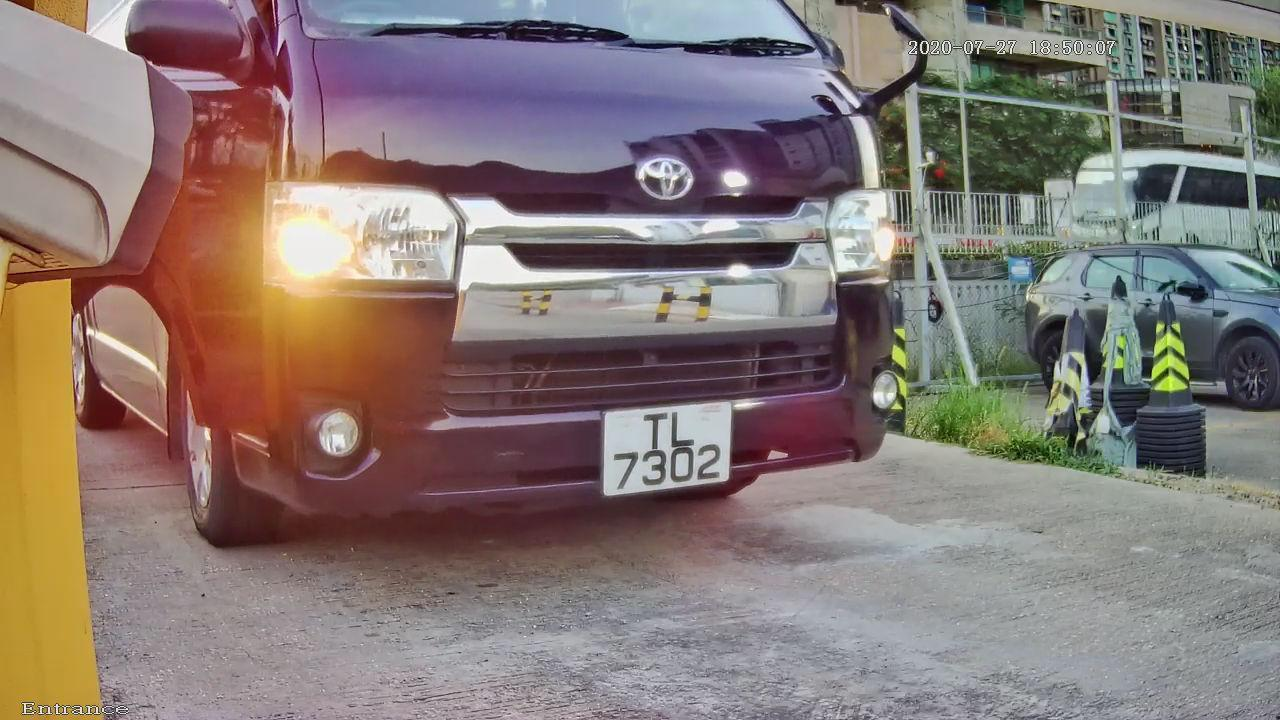privatecar: (86, 13, 943, 557)
